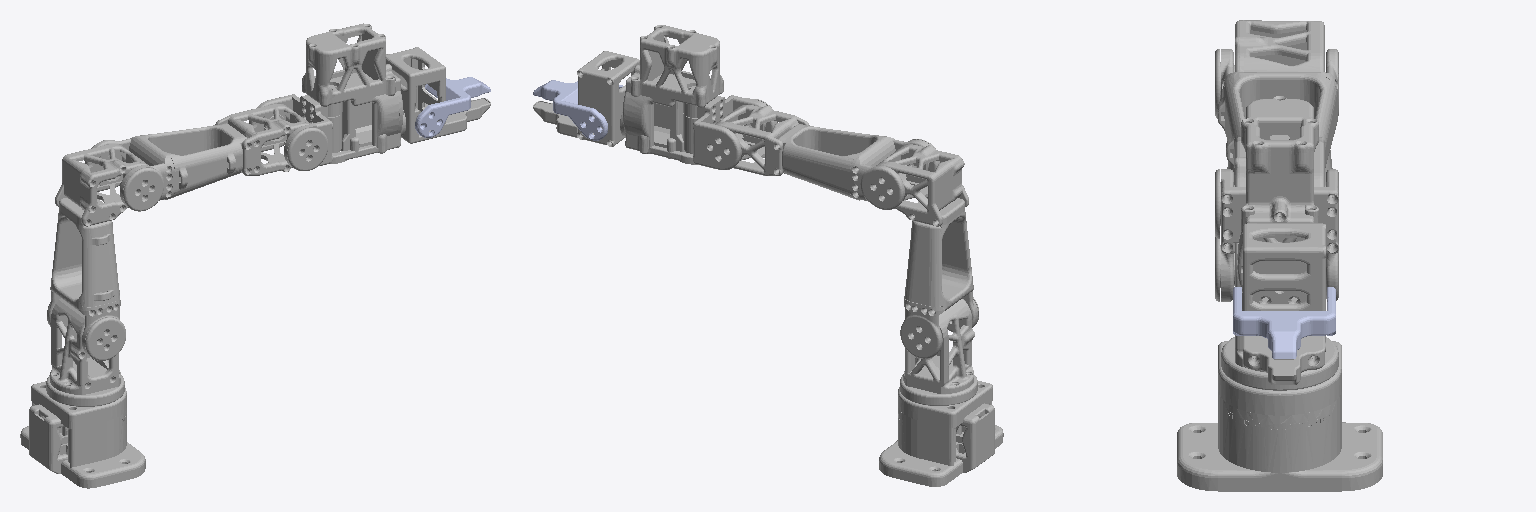
URDF robot description (arm_description):
<?xml version="1.0" encoding="utf-8"?>
<!-- This URDF was automatically created by SolidWorks to URDF Exporter! Originally created by [author] ([email redacted]) 
     Commit Version: 1.6.0-4-g7f85cfe  Build Version: 1.6.7995.38578
     For more information, please see http://wiki.ros.org/sw_urdf_exporter -->
<robot
  name="arm_description">
  <link name="base_link">
   </link>
  <joint name="Base_joint" type="fixed">
     <parent link="base_link"/>
     <child link="Link_0"/>
   </joint>
  <link
    name="Link_0">
    <inertial>
      <origin
        xyz="-0.00186841174166371 2.50538852245872E-08 0.0215517174968573"
        rpy="0 0 0" />
      <mass
        value="0.120274881687953" />
      <inertia
        ixx="7.85095489782459E-05"
        ixy="-2.5923964914073E-10"
        ixz="7.52479004938925E-07"
        iyy="5.40736714848378E-05"
        iyz="-1.15213465229022E-10"
        izz="0.000105809384793902" />
    </inertial>
    <visual>
      <origin
        xyz="0 0 0"
        rpy="0 0 0" />
      <geometry>
        <mesh
          filename="package://arm_description/meshes/Link_0.STL" />
      </geometry>
      <material
        name="">
        <color
          rgba="0.752941176470588 0.752941176470588 0.752941176470588 1" />
      </material>
    </visual>
    <collision>
      <origin
        xyz="0 0 0"
        rpy="0 0 0" />
      <geometry>
        <mesh
          filename="package://arm_description/meshes/Link_0.STL" />
      </geometry>
    </collision>
  </link>
  <link
    name="Link_1">
    <inertial>
      <origin
        xyz="1.6372825671052E-08 -0.00192246981351583 0.0249618879819944"
        rpy="0 0 0" />
      <mass
        value="0.0601843511838218" />
      <inertia
        ixx="2.40354508371122E-05"
        ixy="7.39479891402167E-12"
        ixz="2.05889155998936E-11"
        iyy="2.50929356191337E-05"
        iyz="-2.8998043123432E-07"
        izz="1.79760286790951E-05" />
    </inertial>
    <visual>
      <origin
        xyz="0 0 0"
        rpy="0 0 0" />
      <geometry>
        <mesh
          filename="package://arm_description/meshes/Link_1.STL" />
      </geometry>
      <material
        name="">
        <color
          rgba="0.752941176470588 0.752941176470588 0.752941176470588 1" />
      </material>
    </visual>
    <collision>
      <origin
        xyz="0 0 0"
        rpy="0 0 0" />
      <geometry>
        <mesh
          filename="package://arm_description/meshes/Link_1.STL" />
      </geometry>
    </collision>
  </link>
  <joint
    name="Joint_1"
    type="revolute">
    <origin
      xyz="0 0 0.0520999749999999"
      rpy="0 0 0" />
    <parent
      link="Link_0" />
    <child
      link="Link_1" />
    <axis
      xyz="0 0 1" />
    <limit
      lower="-3.14"
      upper="3.14"
      effort="2.92"
      velocity="4.5" />
  </joint>
  <link
    name="Link_2">
    <inertial>
      <origin
        xyz="0.00639934747655226 -0.000788371670941635 0.0673431569215511"
        rpy="0 0 0" />
      <mass
        value="0.0879365609479581" />
      <inertia
        ixx="5.58125584142004E-05"
        ixy="3.05873895421976E-07"
        ixz="-6.11348651523486E-07"
        iyy="5.08744603129432E-05"
        iyz="2.78428454591459E-07"
        izz="2.91228934054131E-05" />
    </inertial>
    <visual>
      <origin
        xyz="0 0 0"
        rpy="0 0 0" />
      <geometry>
        <mesh
          filename="package://arm_description/meshes/Link_2.STL" />
      </geometry>
      <material
        name="">
        <color
          rgba="0.752941176470588 0.752941176470588 0.752941176470588 1" />
      </material>
    </visual>
    <collision>
      <origin
        xyz="0 0 0"
        rpy="0 0 0" />
      <geometry>
        <mesh
          filename="package://arm_description/meshes/Link_2.STL" />
      </geometry>
    </collision>
  </link>
  <joint
    name="Joint_2"
    type="revolute">
    <origin
      xyz="0 0 0.0541000250000002"
      rpy="0 0 0" />
    <parent
      link="Link_1" />
    <child
      link="Link_2" />
    <axis
      xyz="0 1 0" />
    <limit
      lower="-1.57"
      upper="1.57"
      effort="2.94"
      velocity="4.5" />
  </joint>
  <link
    name="Link_3">
    <inertial>
      <origin
        xyz="0.0717174331065269 -0.000795514048423572 0.000196159539195329"
        rpy="0 0 0" />
      <mass
        value="0.0879996844183864" />
      <inertia
        ixx="2.19988198885556E-05"
        ixy="5.11334783735054E-07"
        ixz="-2.57342143473836E-08"
        iyy="5.13996982896891E-05"
        iyz="5.45466342941832E-11"
        izz="6.34682921546949E-05" />
    </inertial>
    <visual>
      <origin
        xyz="0 0 0"
        rpy="0 0 0" />
      <geometry>
        <mesh
          filename="package://arm_description/meshes/Link_3.STL" />
      </geometry>
      <material
        name="">
        <color
          rgba="0.752941176470588 0.752941176470588 0.752941176470588 1" />
      </material>
    </visual>
    <collision>
      <origin
        xyz="0 0 0"
        rpy="0 0 0" />
      <geometry>
        <mesh
          filename="package://arm_description/meshes/Link_3.STL" />
      </geometry>
    </collision>
  </link>
  <joint
    name="Joint_3"
    type="revolute">
    <origin
      xyz="0.0318000000000006 0 0.1125"
      rpy="0 0.00119783187528121 0" />
    <parent
      link="Link_2" />
    <child
      link="Link_3" />
    <axis
      xyz="0 1 0" />
    <limit
      lower="-1.57"
      upper="1.57"
      effort="2.94"
      velocity="4.5" />
  </joint>
  <link
    name="Link_4">
    <inertial>
      <origin
        xyz="0.0207195207783508 0.00250991429287713 0.00203821404721022"
        rpy="0 0 0" />
      <mass
        value="0.0337528735584262" />
      <inertia
        ixx="5.16898889782868E-06"
        ixy="-4.30565260535002E-09"
        ixz="4.70490364581223E-08"
        iyy="4.01910605691164E-06"
        iyz="5.61146571756272E-08"
        izz="3.87872394301694E-06" />
    </inertial>
    <visual>
      <origin
        xyz="0 0 0"
        rpy="0 0 0" />
      <geometry>
        <mesh
          filename="package://arm_description/meshes/Link_4.STL" />
      </geometry>
      <material
        name="">
        <color
          rgba="0.752941176470588 0.752941176470588 0.752941176470588 1" />
      </material>
    </visual>
    <collision>
      <origin
        xyz="0 0 0"
        rpy="0 0 0" />
      <geometry>
        <mesh
          filename="package://arm_description/meshes/Link_4.STL" />
      </geometry>
    </collision>
  </link>
  <joint
    name="Joint_4"
    type="revolute">
    <origin
      xyz="0.1378 0 0.00016506"
      rpy="0 -0.0011978 0" />
    <parent
      link="Link_3" />
    <child
      link="Link_4" />
    <axis
      xyz="0 1 0" />
    <limit
      lower="-1.57"
      upper="1.57"
      effort="2.94"
      velocity="4.5" />
  </joint>
  <link
    name="Link_5">
    <inertial>
      <origin
        xyz="0.0240131840829411 2.71687309323209E-07 0.0187123881058747"
        rpy="0 0 0" />
      <mass
        value="0.0567730043412737" />
      <inertia
        ixx="1.64904144549218E-05"
        ixy="-6.16564440638043E-11"
        ixz="1.61324277303039E-06"
        iyy="2.43462036741009E-05"
        iyz="2.75698618885409E-10"
        izz="2.39782654452867E-05" />
    </inertial>
    <visual>
      <origin
        xyz="0 0 0"
        rpy="0 0 0" />
      <geometry>
        <mesh
          filename="package://arm_description/meshes/Link_5.STL" />
      </geometry>
      <material
        name="">
        <color
          rgba="0.752941176470588 0.752941176470588 0.752941176470588 1" />
      </material>
    </visual>
    <collision>
      <origin
        xyz="0 0 0"
        rpy="0 0 0" />
      <geometry>
        <mesh
          filename="package://arm_description/meshes/Link_5.STL" />
      </geometry>
    </collision>
  </link>
  <joint
    name="Joint_5"
    type="revolute">
    <origin
      xyz="0.0344999999999794 0 0"
      rpy="0 0 0" />
    <parent
      link="Link_4" />
    <child
      link="Link_5" />
    <axis
      xyz="0 0 1" />
    <limit
      lower="-1.46"
      upper="1.57"
      effort="2.92"
      velocity="4.5" />
  </joint>
  <link
    name="Link_6">
    <inertial>
      <origin
        xyz="0.0257518935612762 0.00281937583164617 0.00493977898472961"
        rpy="0 0 0" />
      <mass
        value="0.0319894081273108" />
      <inertia
        ixx="1.31065564223499E-05"
        ixy="-3.37815187638791E-07"
        ixz="2.09094384952868E-06"
        iyy="1.53996224639332E-05"
        iyz="5.58847684910504E-07"
        izz="8.92019679064812E-06" />
    </inertial>
    <visual>
      <origin
        xyz="0 0 0"
        rpy="0 0 0" />
      <geometry>
        <mesh
          filename="package://arm_description/meshes/Link_6.STL" />
      </geometry>
      <material
        name="">
        <color
          rgba="0.752941176470588 0.752941176470588 0.752941176470588 1" />
      </material>
    </visual>
    <collision>
      <origin
        xyz="0 0 0"
        rpy="0 0 0" />
      <geometry>
        <mesh
          filename="package://arm_description/meshes/Link_6.STL" />
      </geometry>
    </collision>
  </link>
  <joint
    name="Joint_6"
    type="revolute">
    <origin
      xyz="0.0576950428676977 0 -0.00754999999999195"
      rpy="0 0 0" />
    <parent
      link="Link_5" />
    <child
      link="Link_6" />
    <axis
      xyz="1 0 0" />
    <limit
      lower="-3.14"
      upper="3.14"
      effort="2.94"
      velocity="4.5" />
  </joint>
  <link
    name="EE_Gripper_Link">
    <inertial>
      <origin
        xyz="0 0 0"
        rpy="0 0 0" />
      <mass
        value="0.0" />
      <inertia
        ixx="0.0"
        ixy="0.0"
        ixz="0.0"
        iyy="0.0"
        iyz="0.0"
        izz="0.0" />
    </inertial>
  </link>
  <joint
    name="EE_Gripper_Joint"
    type="fixed">
    <origin
      xyz="0.05 0 0"
      rpy="0 0 0" />
    <parent
      link="Link_6" />
    <child
      link="EE_Gripper_Link" />
  </joint>
  <link
    name="Gripper">
    <inertial>
      <origin
        xyz="0.0246770750803115 0.00220775299984285 0.00641971005771602"
        rpy="0 0 0" />
      <mass
        value="0.0138054611744092" />
      <inertia
        ixx="4.09352910401682E-06"
        ixy="5.18046550129644E-08"
        ixz="-6.33223062442651E-07"
        iyy="4.43939246707517E-06"
        iyz="2.4630618335363E-08"
        izz="7.81071694714073E-06" />
    </inertial>
    <visual>
      <origin
        xyz="0 0 0"
        rpy="0 0 0" />
      <geometry>
        <mesh
          filename="package://arm_description/meshes/Gripper.STL" />
      </geometry>
      <material
        name="">
        <color
          rgba="0.792156862745098 0.819607843137255 0.933333333333333 1" />
      </material>
    </visual>
    <collision>
      <origin
        xyz="0 0 0"
        rpy="0 0 0" />
      <geometry>
        <mesh
          filename="package://arm_description/meshes/Gripper.STL" />
      </geometry>
    </collision>
  </link>
  <joint
    name="Joint_Gripper"
    type="revolute">
    <origin
      xyz="0.015505 0.00015277 0"
      rpy="0 0 0" />
    <parent
      link="Link_6" />
    <child
      link="Gripper" />
    <axis
      xyz="0 1 0" />
    <limit
      lower="-0.5"
      upper="0.18"
      effort="2.92"
      velocity="4.5" />
  </joint>
</robot>

--- What the picture shows (computed from the rendered views, not written in the file) ---
3 views of the same robot in one strip: view 1: azimuth 30°, elevation 25°; view 2: azimuth 150°, elevation 25°; view 3: azimuth 270°, elevation 25° (orthographic).
Model arm_description with 10 links and 9 joints (7 revolute, 2 fixed), rooted at base_link, posed every joint at zero.
Links seen in each view (by area): view 1: Link_2, Link_3, Link_5, Link_0, Link_1, Link_6, Link_4, Gripper; view 2: Link_2, Link_3, Link_5, Link_0, Link_1, Link_6, Link_4, Gripper; view 3: Link_0, Link_6, Link_5, Link_3, Link_2, Gripper, Link_4, Link_1.
Boxes of the visible links, bbox=[...] form: Link_2: bbox=[47, 144, 163, 354]; Link_3: bbox=[85, 104, 327, 206]; Link_5: bbox=[302, 23, 405, 163]; Link_0: bbox=[20, 381, 145, 488]; Link_1: bbox=[46, 298, 125, 406]; Link_6: bbox=[386, 47, 490, 143]; Link_4: bbox=[249, 85, 342, 167]; Gripper: bbox=[415, 77, 490, 137]; Link_2: bbox=[876, 139, 977, 358]; Link_3: bbox=[715, 99, 939, 209]; Link_5: bbox=[620, 25, 723, 164]; Link_0: bbox=[879, 381, 1003, 486]; Link_1: bbox=[900, 297, 978, 405]; Link_6: bbox=[533, 51, 639, 146]; Link_4: bbox=[683, 86, 776, 169]; Gripper: bbox=[533, 80, 622, 140]; Link_0: bbox=[1177, 341, 1382, 491]; Link_6: bbox=[1243, 223, 1325, 384]; Link_5: bbox=[1237, 96, 1318, 309]; Link_3: bbox=[1215, 49, 1338, 238]; Link_2: bbox=[1215, 20, 1338, 301]; Gripper: bbox=[1233, 287, 1335, 358]; Link_4: bbox=[1221, 169, 1338, 253]; Link_1: bbox=[1215, 237, 1338, 390].
Size in the robot's own frame: 0.3782 by 0.1 by 0.2853 metres.
8 mesh visuals loaded from 8 distinct referenced files (8 binary STL).